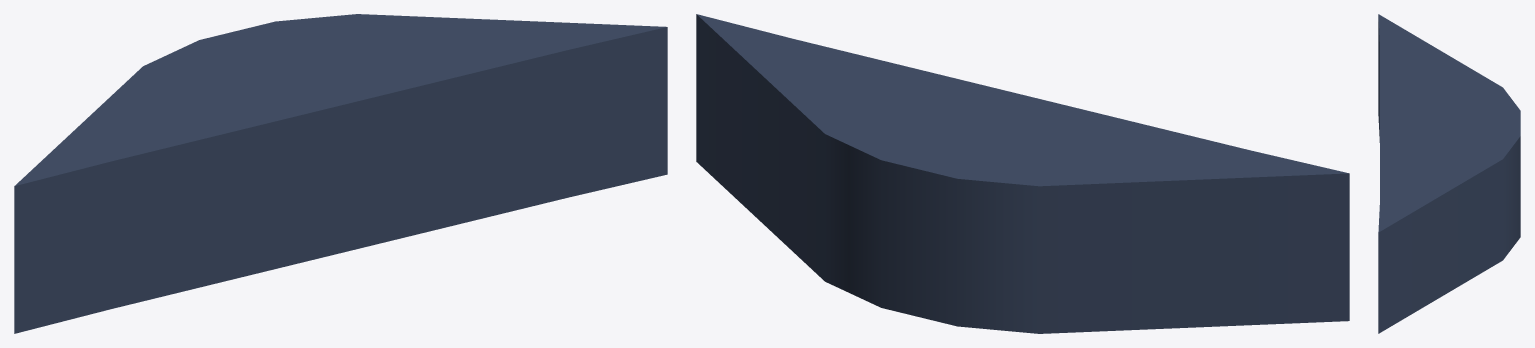
The model's file is Ring_04_Bumper_01.fbx.
3 renders of one model, left to right at view 1: azimuth 30°, elevation 25°; view 2: azimuth 150°, elevation 25°; view 3: azimuth 270°, elevation 25°, orthographic. The views are drawn at different scales.
Parts seen in each view (by area): view 1: Ring_04_Bumper_01; view 2: Ring_04_Bumper_01; view 3: Ring_04_Bumper_01.
Part boxes in pixels (box(x1,y1,x2,y2)): Ring_04_Bumper_01: box(14, 14, 667, 333); Ring_04_Bumper_01: box(696, 14, 1349, 333); Ring_04_Bumper_01: box(1378, 14, 1520, 333).
Bounding box in the file's own units: 36.84 × 7.96 × 10.12.
